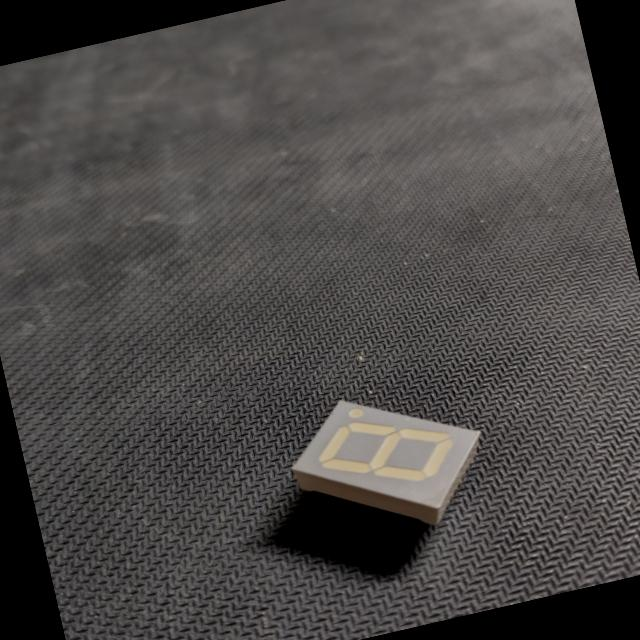sevensegment: (262, 364, 506, 562)
